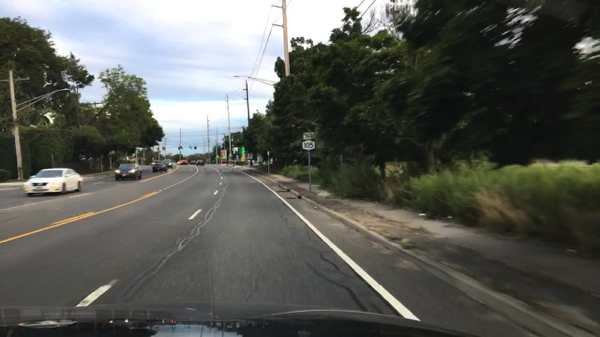car: (24, 167, 83, 197), (114, 164, 142, 182), (152, 161, 167, 174), (163, 159, 172, 168), (196, 159, 205, 167), (219, 160, 233, 164), (148, 161, 157, 166), (181, 160, 187, 166), (248, 160, 257, 164), (171, 161, 176, 166), (176, 161, 182, 165), (190, 161, 196, 164)
traffic light: (187, 147, 193, 151), (177, 147, 183, 151), (193, 146, 197, 152), (162, 147, 165, 153)
traffic sign: (302, 141, 316, 150), (302, 132, 316, 139), (257, 156, 263, 164), (109, 150, 115, 156), (264, 151, 271, 156), (270, 156, 275, 162), (131, 153, 136, 157), (229, 153, 232, 159)
